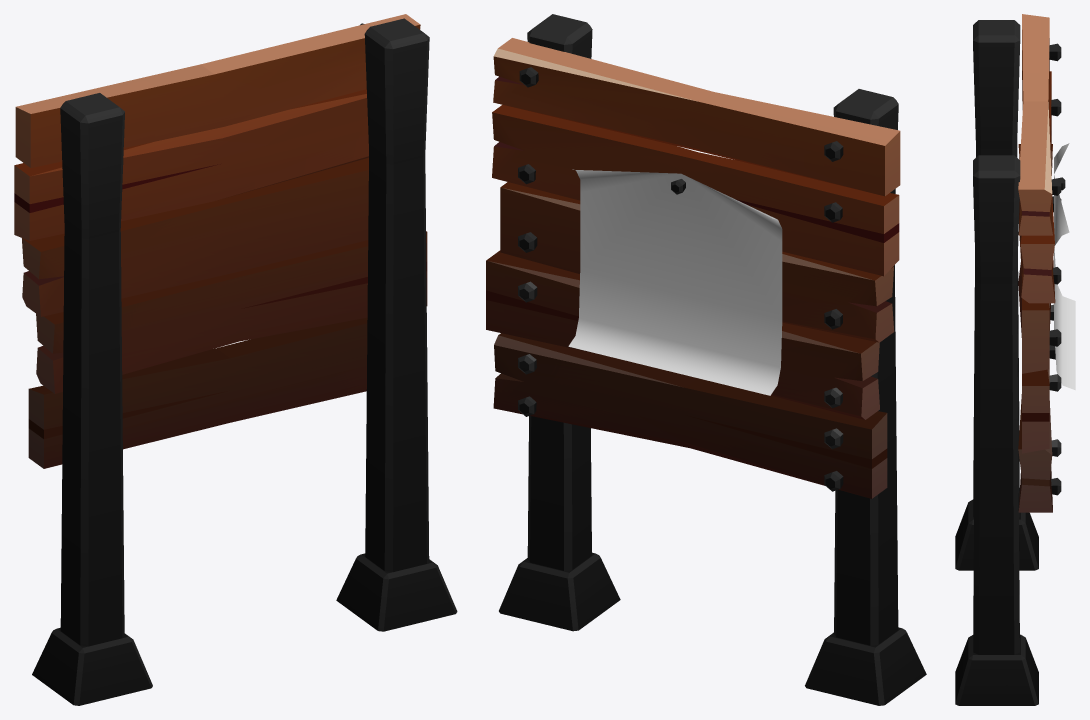
File: barrier_hi.fbx
3 views of the same model, side by side, from view 1: azimuth 30°, elevation 25°; view 2: azimuth 150°, elevation 25°; view 3: azimuth 270°, elevation 25° (orthographic). The views are drawn at different scales.
Visible parts, largest first — view 1: barrier.001; view 2: barrier.001, paper; view 3: barrier.001, paper.
Part boxes in pixels (x1,y1,x2,y2): barrier.001: [14, 14, 457, 705]; barrier.001: [486, 14, 926, 705]; paper: [568, 169, 782, 395]; barrier.001: [955, 14, 1065, 705]; paper: [1054, 143, 1075, 390].
Size of the model in its own units: 2.44 by 3.38 by 0.704.
